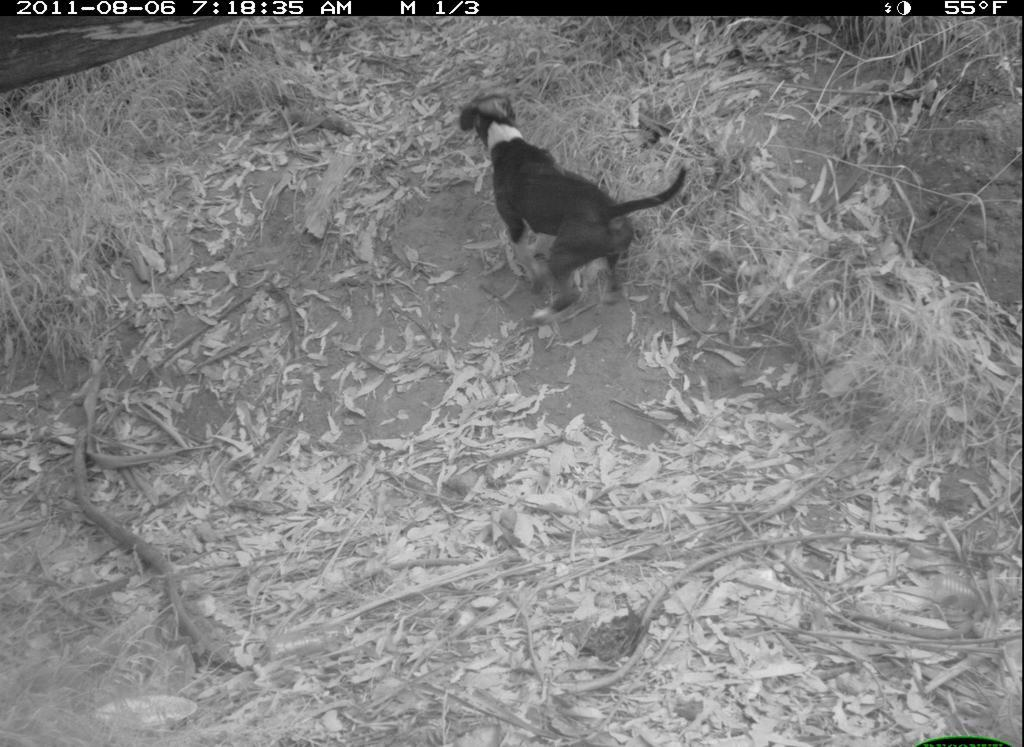dog: (456, 85, 693, 327)
